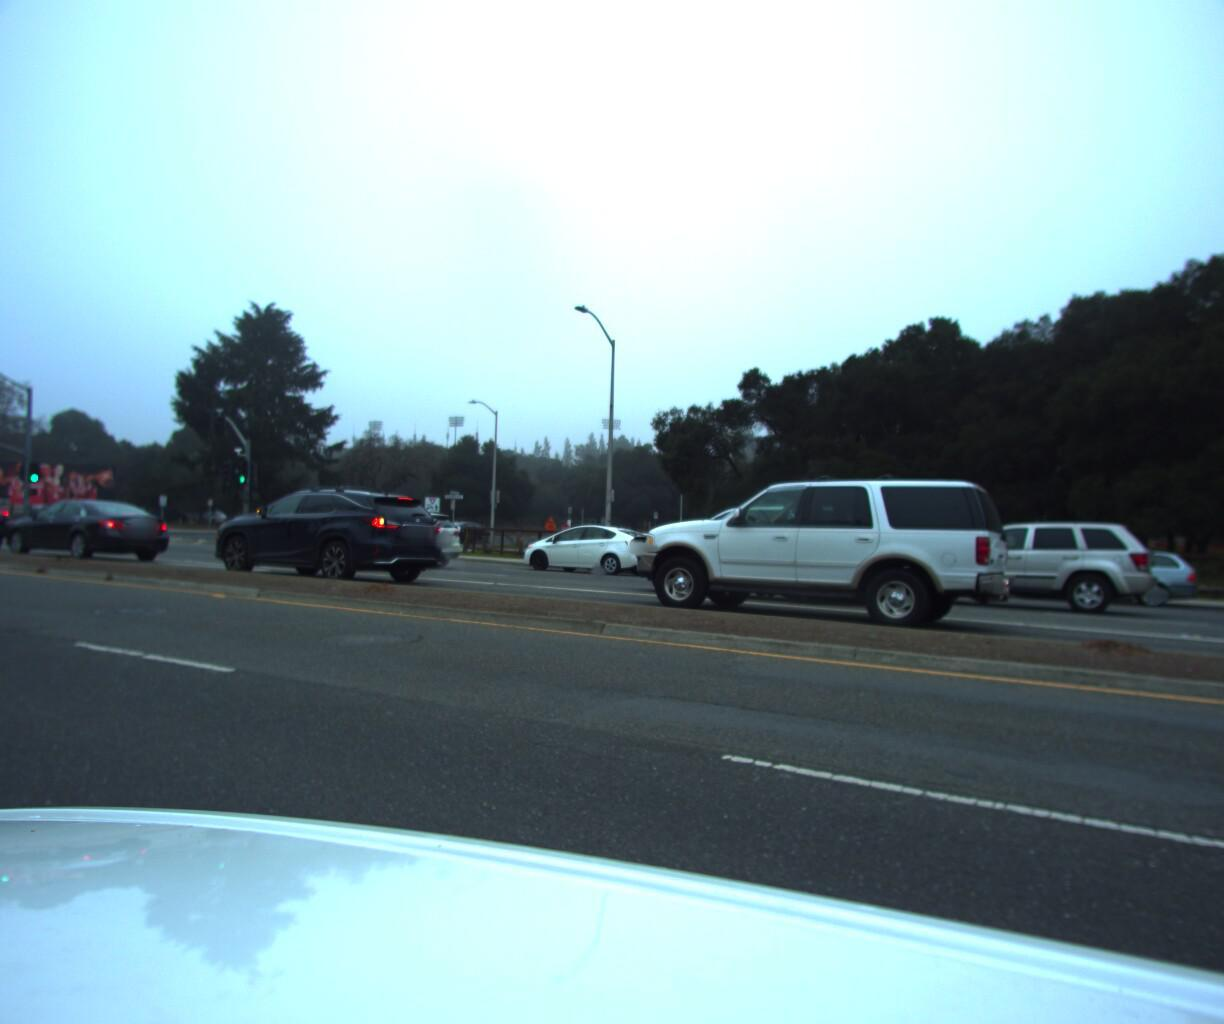car: (606, 464, 1014, 635), (191, 476, 464, 595), (623, 494, 889, 603), (902, 513, 1168, 618), (990, 534, 1205, 612), (313, 503, 467, 563), (512, 514, 663, 573)
